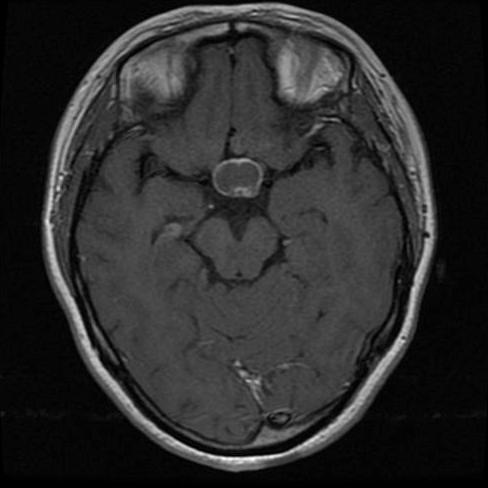Tumour-Pituitary: (210, 159, 270, 203)
